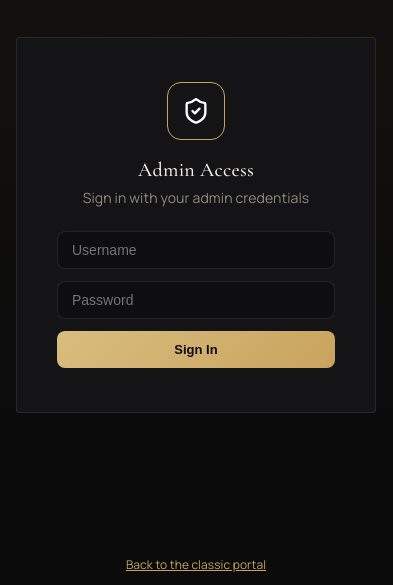
signing in with a password — the admin portal › says it cannot reach the server, and does not sign anyone in
Type "sara" into the field labelled "Username".
click(196, 250); type("sara")  # box [57, 231, 335, 269]
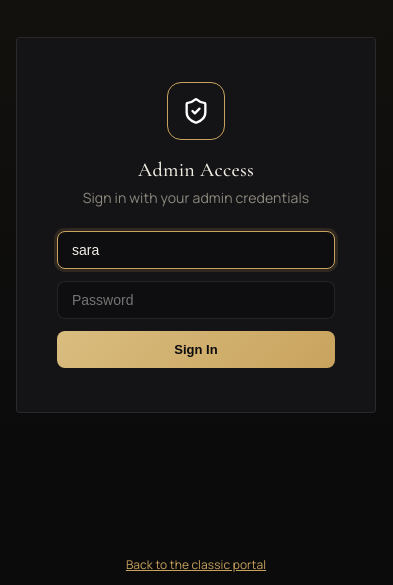
Type "pw-1" into the password field labelled "Password".
click(196, 300); type("pw-1")  # box [57, 281, 335, 319]
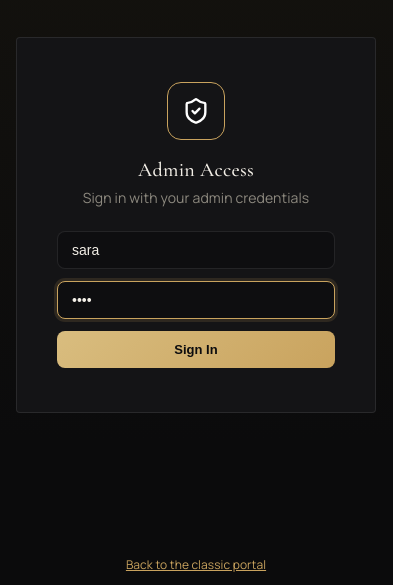
Click the button "Sign In".
click(196, 350)  # box [57, 331, 335, 368]
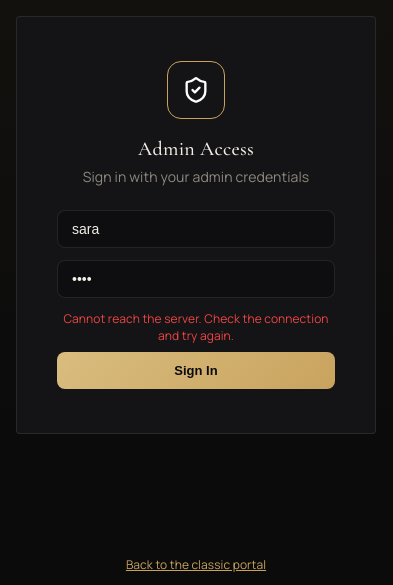
Expected: the message shows "Cannot reach the server", [63, 310, 329, 344]
